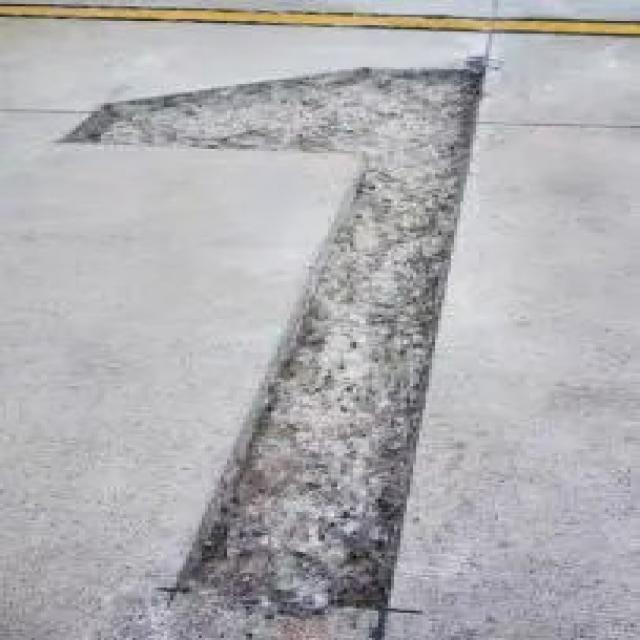Pothole: (44, 61, 498, 634)
